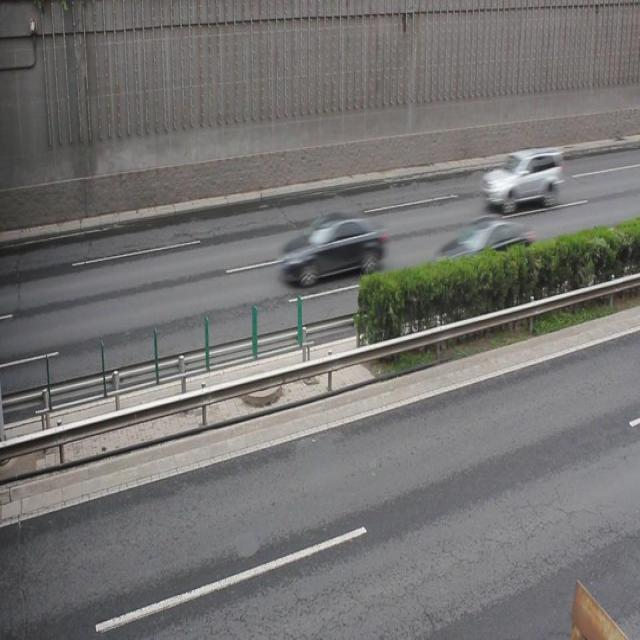car: (281, 216, 388, 283), (428, 219, 527, 280), (482, 145, 562, 211)
